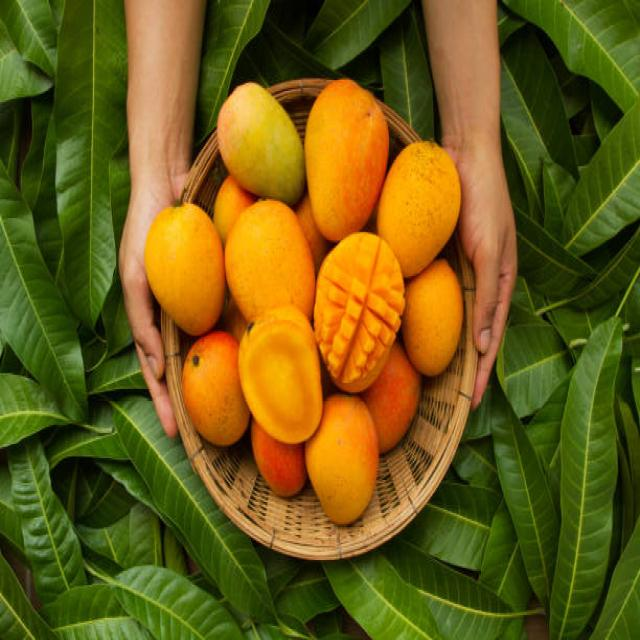mango: (314, 232, 405, 391), (305, 79, 389, 241), (239, 304, 322, 444), (378, 142, 461, 278), (226, 199, 315, 322), (219, 82, 305, 203), (145, 206, 225, 336), (305, 394, 379, 525), (182, 332, 250, 446), (401, 259, 464, 376), (361, 339, 421, 453)
